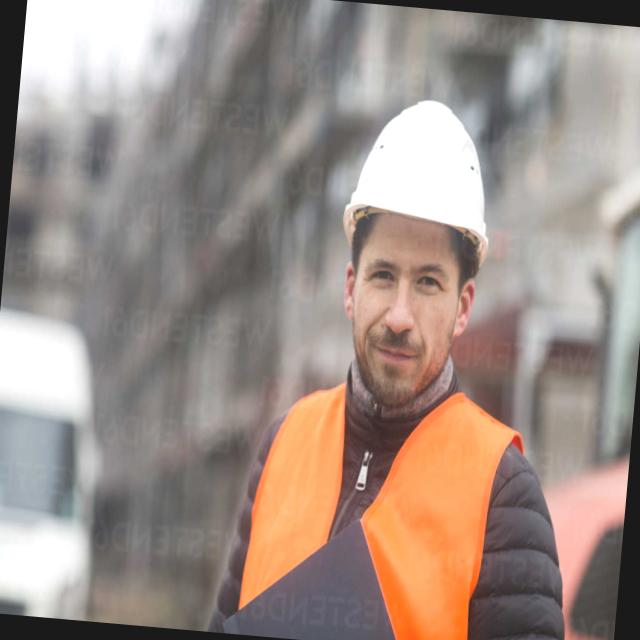helmet: (331, 89, 510, 260)
no-goggles: (343, 236, 480, 312)
vest: (217, 371, 549, 640)
